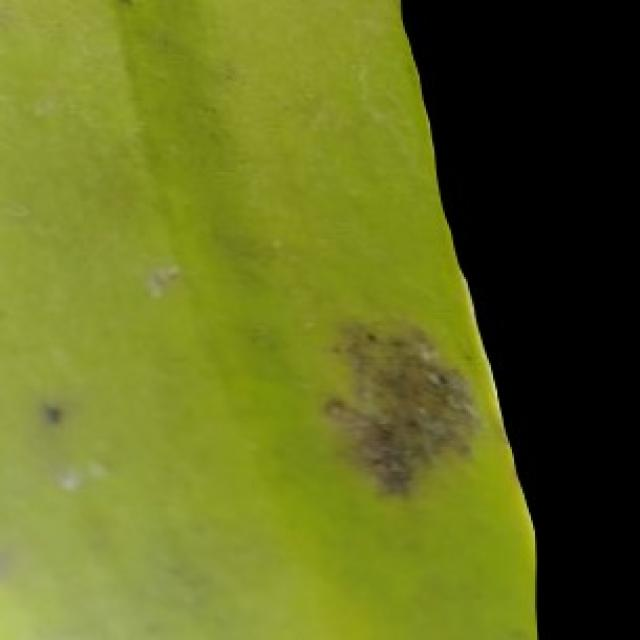mite: (15, 315, 485, 499), (350, 329, 455, 460), (31, 392, 69, 432), (40, 401, 63, 426), (94, 0, 151, 6), (363, 327, 380, 344)
sunburn: (317, 313, 487, 502)
